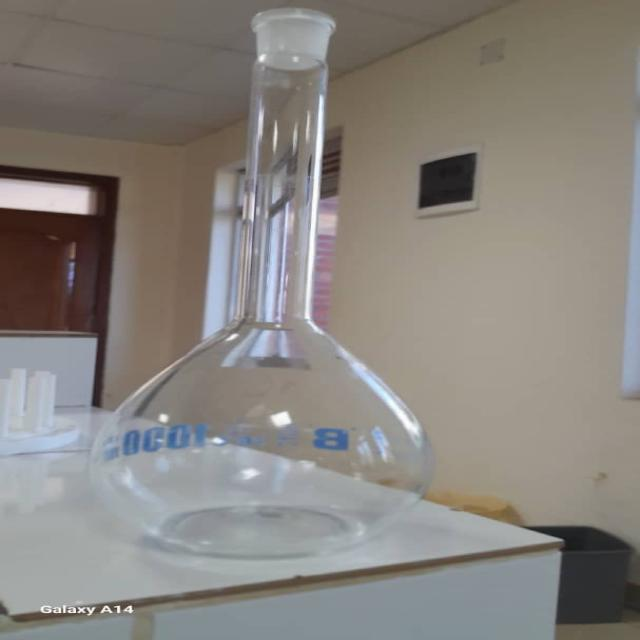Volumetric flask: (93, 3, 455, 567)
